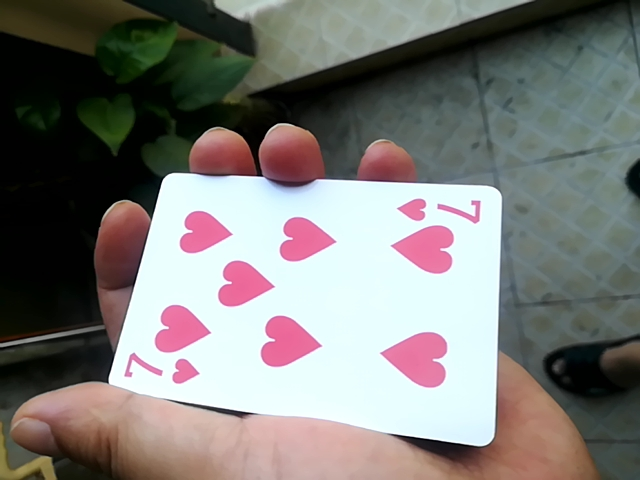hx 7: (106, 165, 491, 454)
